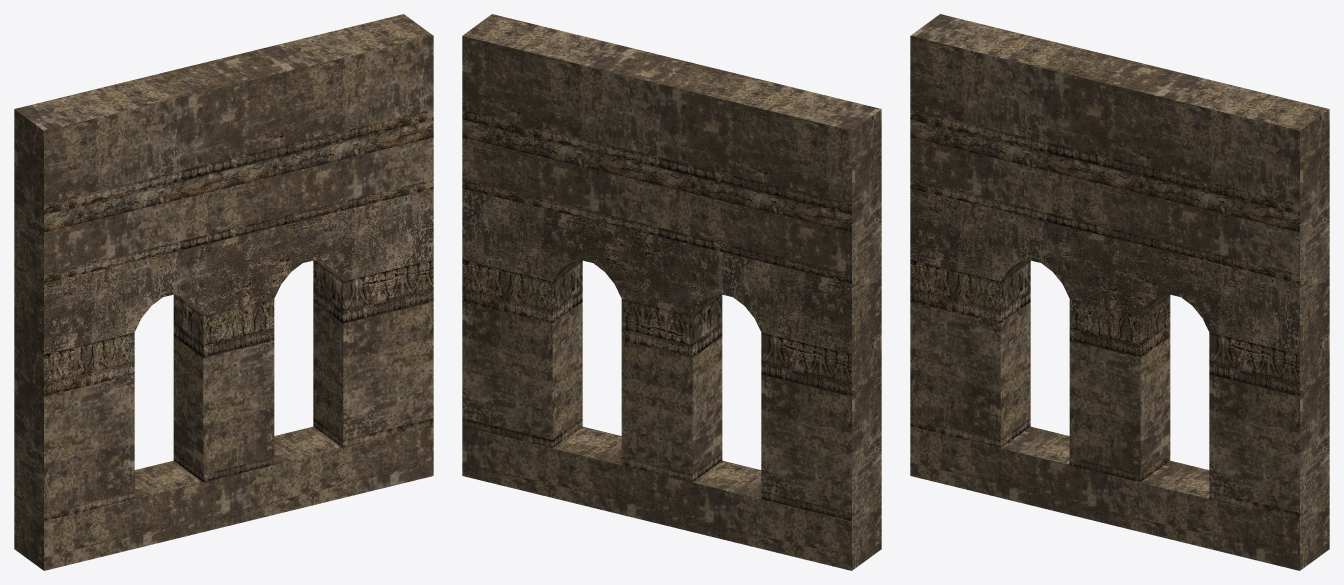
File: materials_5_wall_rectangle_9.fbx
The picture shows the model from 3 angles, left to right: view 1: azimuth 30°, elevation 25°; view 2: azimuth 150°, elevation 25°; view 3: azimuth 330°, elevation 25°; orthographic projection.
Visible parts, largest first — view 1: materials_5_wall_rectangle_9; view 2: materials_5_wall_rectangle_9; view 3: materials_5_wall_rectangle_9.
Boxes of the visible parts, x1,y1,x2,y2 form: materials_5_wall_rectangle_9: (14, 14, 433, 570); materials_5_wall_rectangle_9: (462, 14, 881, 570); materials_5_wall_rectangle_9: (910, 14, 1329, 570).
Bounding box in the file's own units: 426 × 460 × 56.45.
